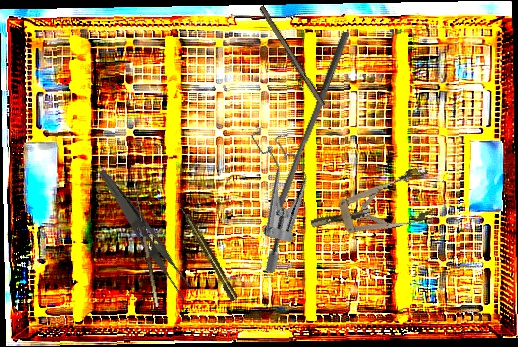Dressing Forceps: (85, 168, 201, 302)
Handpiece: (176, 203, 240, 303)
Hook Surgical: (128, 191, 160, 308)
Pusher: (266, 28, 350, 232)
Scalpel Handle: (255, 4, 328, 109)
Speculum: (205, 114, 342, 276), (304, 165, 440, 249)
